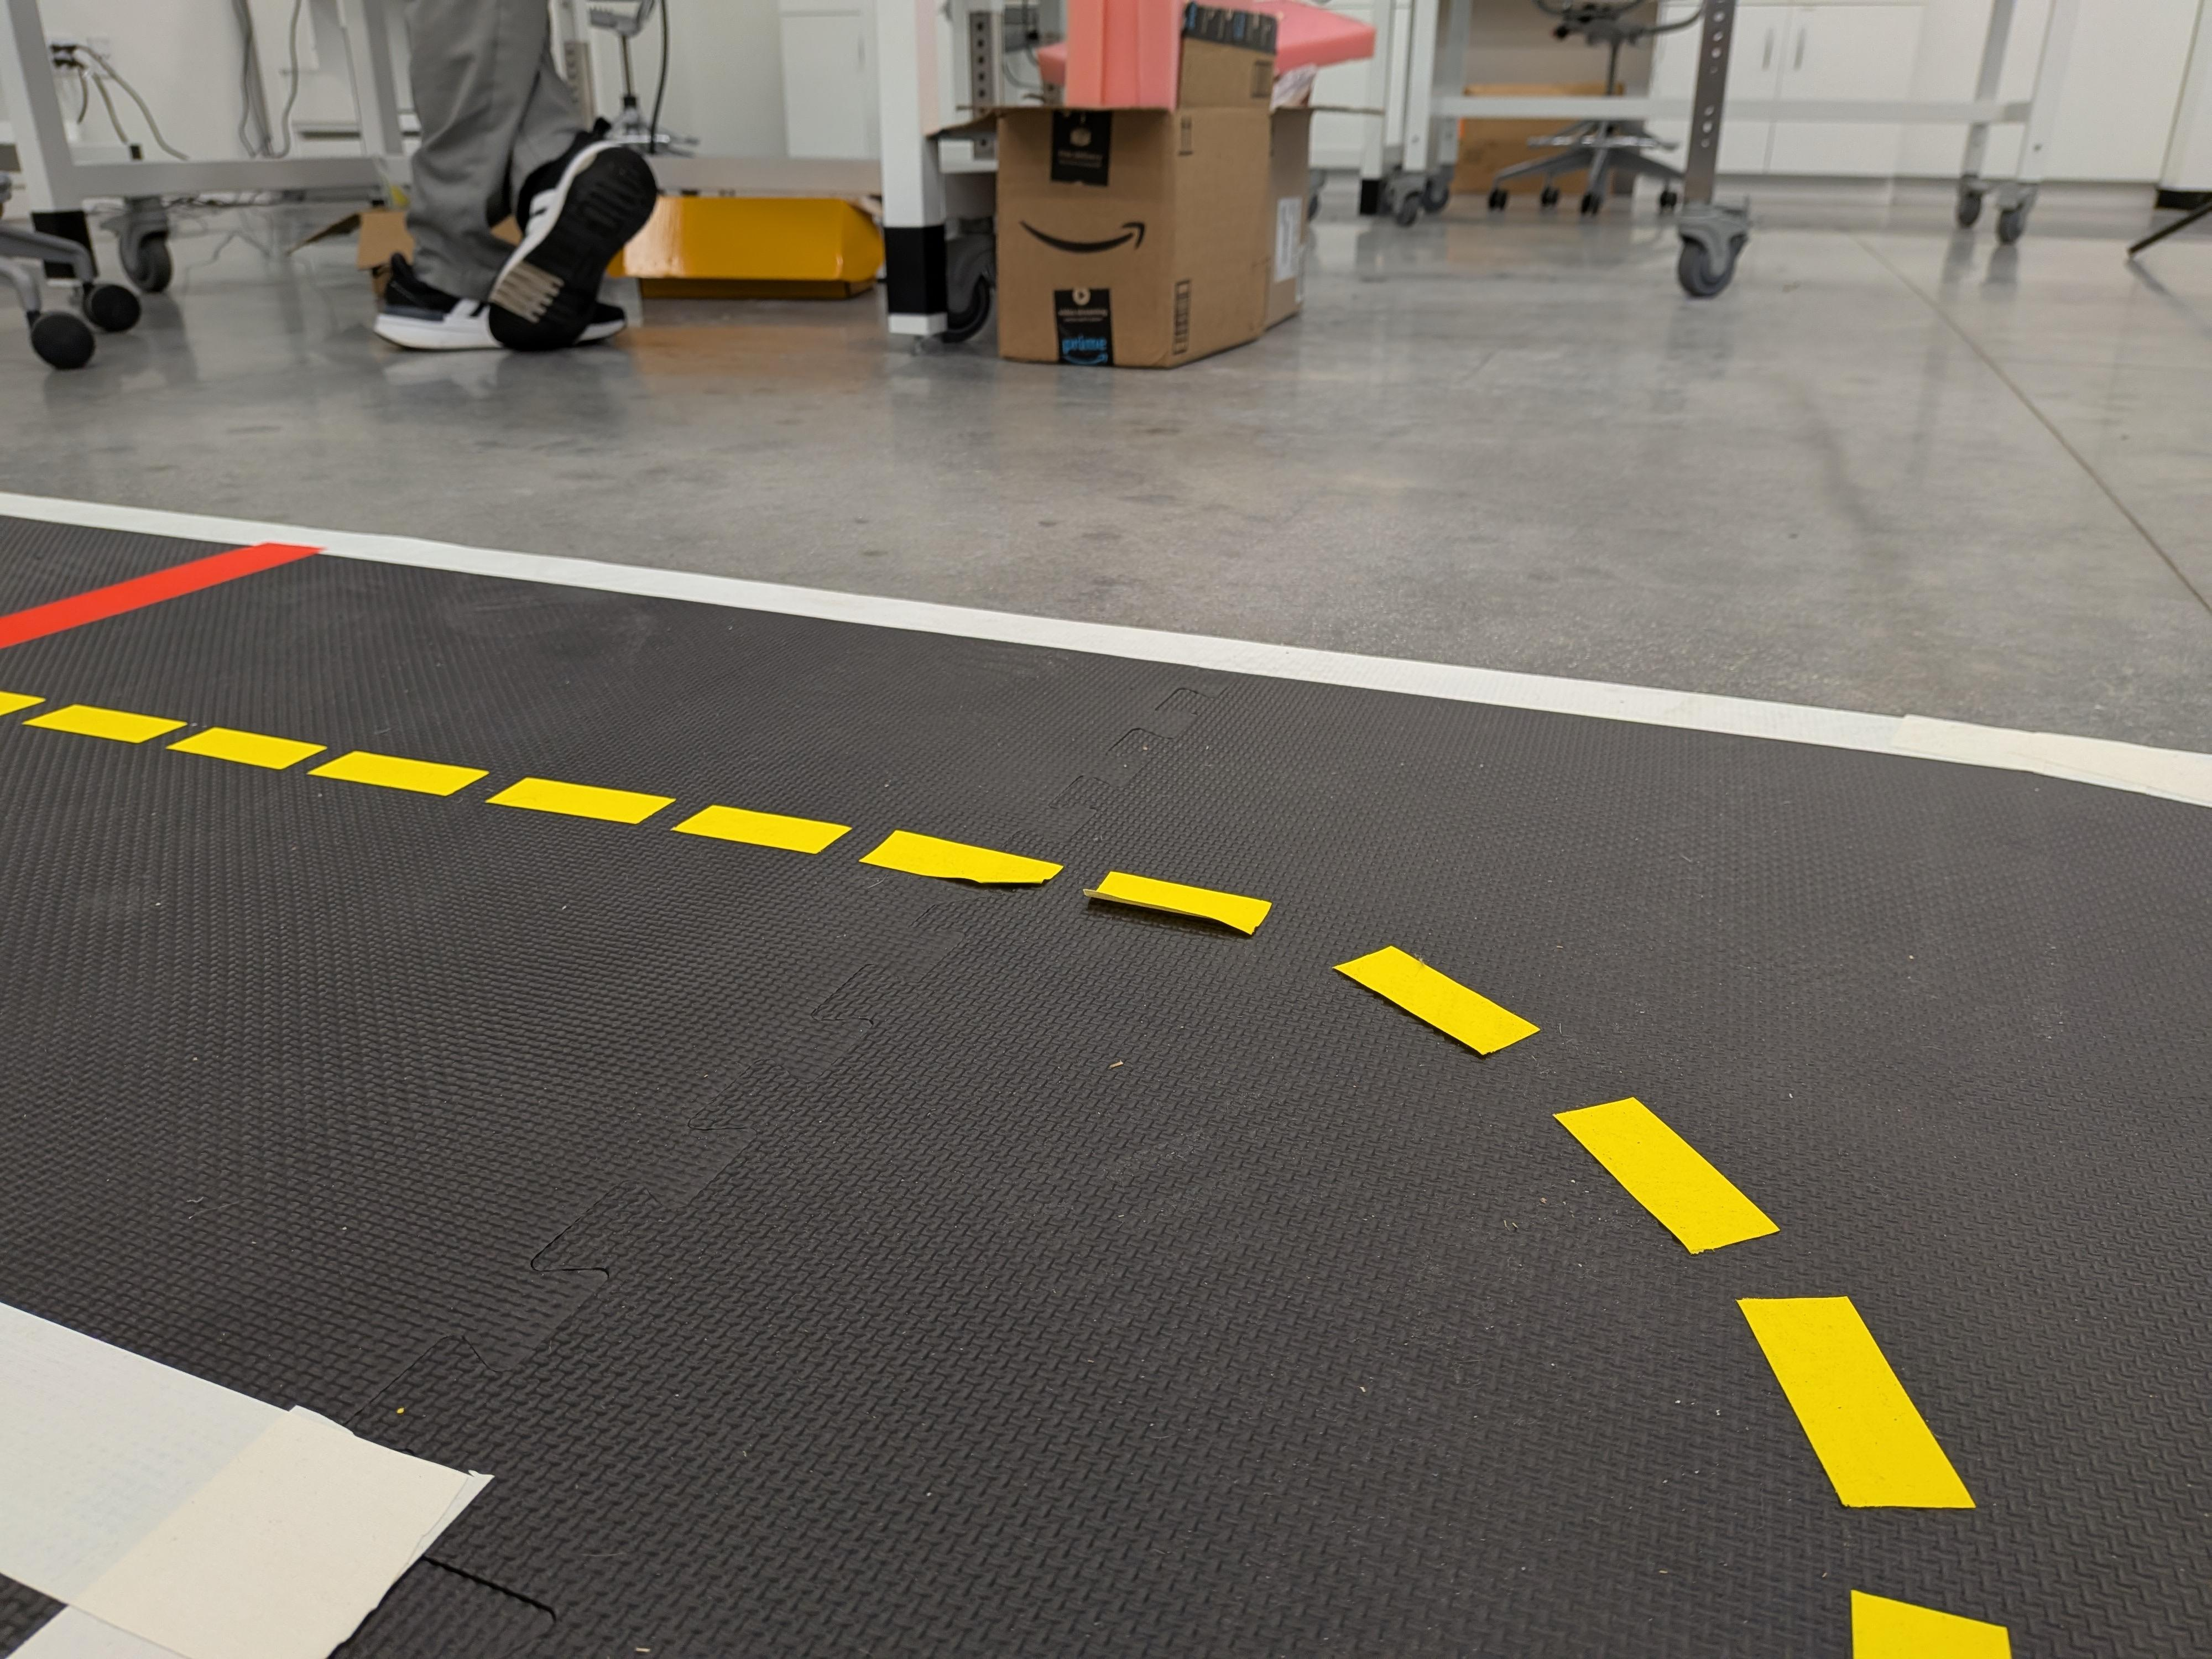stopbar: (0, 540, 319, 650)
whiteline: (0, 488, 2212, 810), (0, 1297, 489, 1659)
yellowline: (0, 685, 1540, 1061), (1552, 1089, 2013, 1659)
